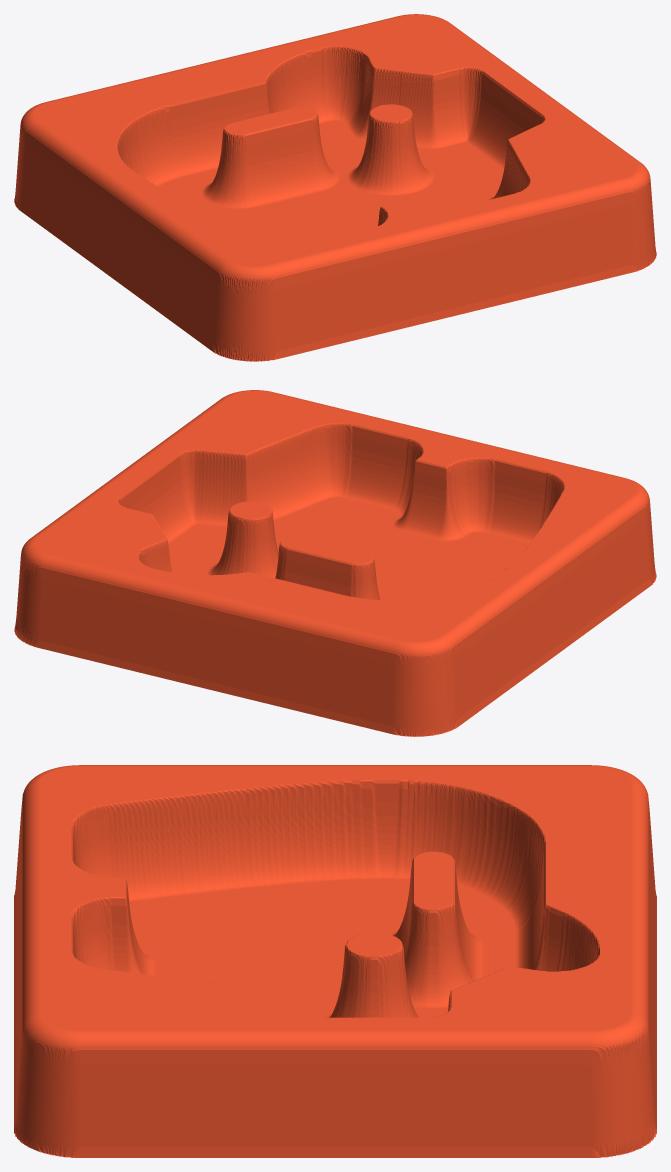
The model's file is mold.glb.
3 renders of one model, top to bottom at view 1: azimuth 30°, elevation 25°; view 2: azimuth 150°, elevation 25°; view 3: azimuth 270°, elevation 25°, orthographic. The views are drawn at different scales.
Visible parts, largest first — view 1: geometry_0; view 2: geometry_0; view 3: geometry_0.
Boxes of the visible parts, x1,y1,x2,y2 form: geometry_0: (14,14,656,361); geometry_0: (14,390,656,736); geometry_0: (14,765,656,1157).
Bounding box in the file's own units: 0.0924 × 0.0175 × 0.0878.
